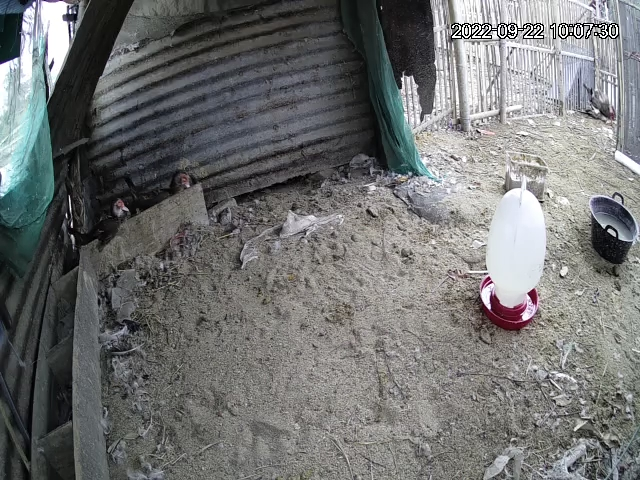Mengeram: (74, 163, 209, 243)
